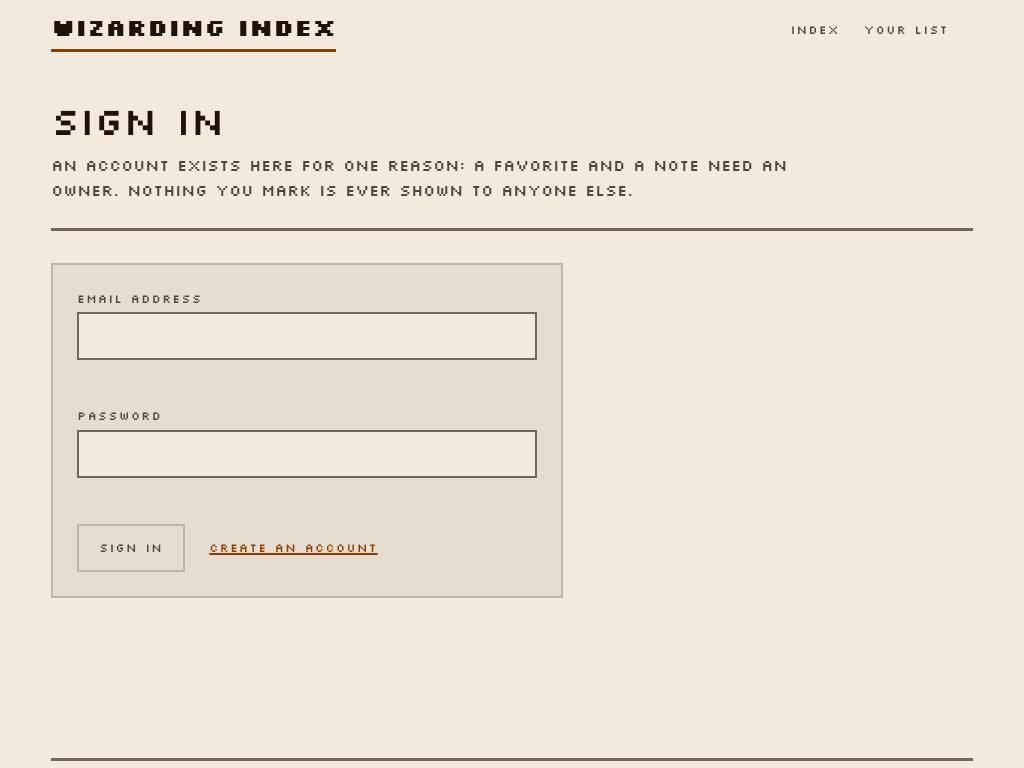
Test: signing in › shows what the server said when the password is wrong
Type "reader@example.com" into the field labelled "Email address" at coordinates (307, 336), box top-left (77, 312), bottom-right (537, 360)
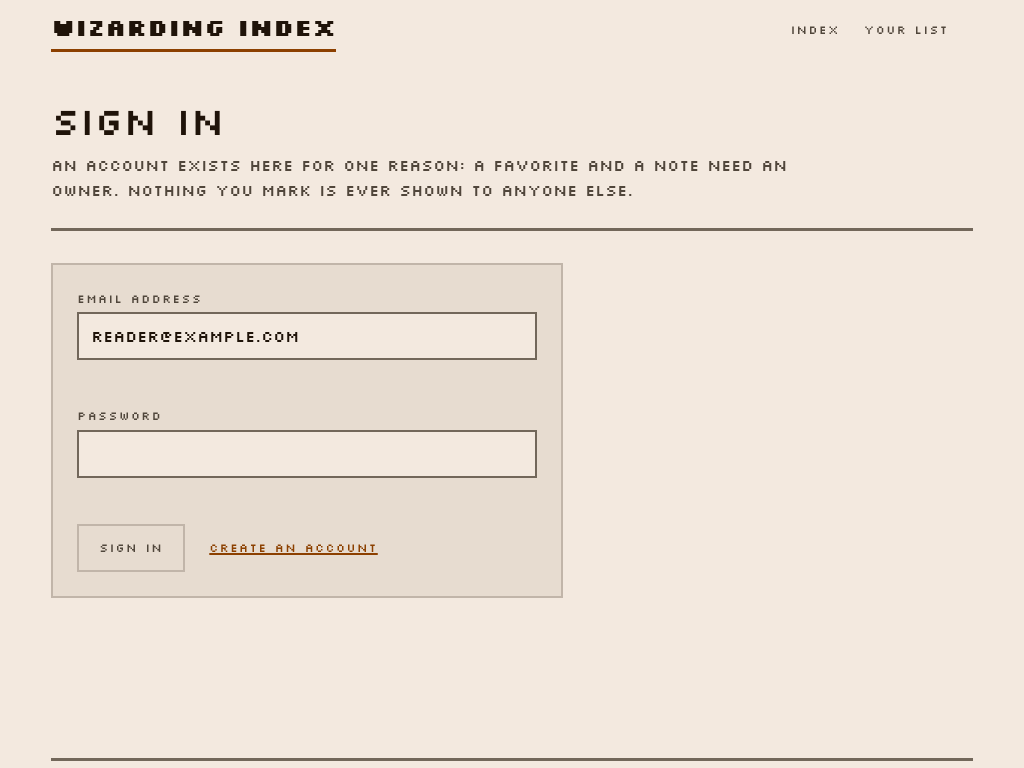
Type "password123" into the password field labelled "Password" at coordinates (307, 454), box top-left (77, 430), bottom-right (537, 478)
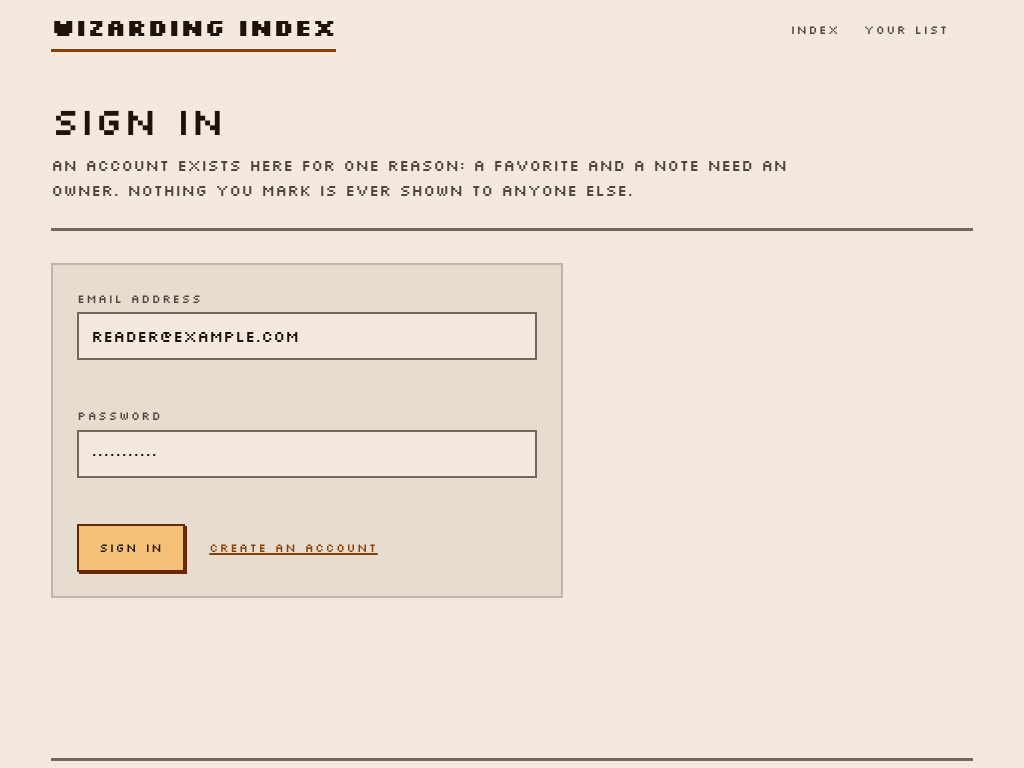
Click the button "Sign in" at coordinates (131, 548), box top-left (77, 524), bottom-right (185, 572)
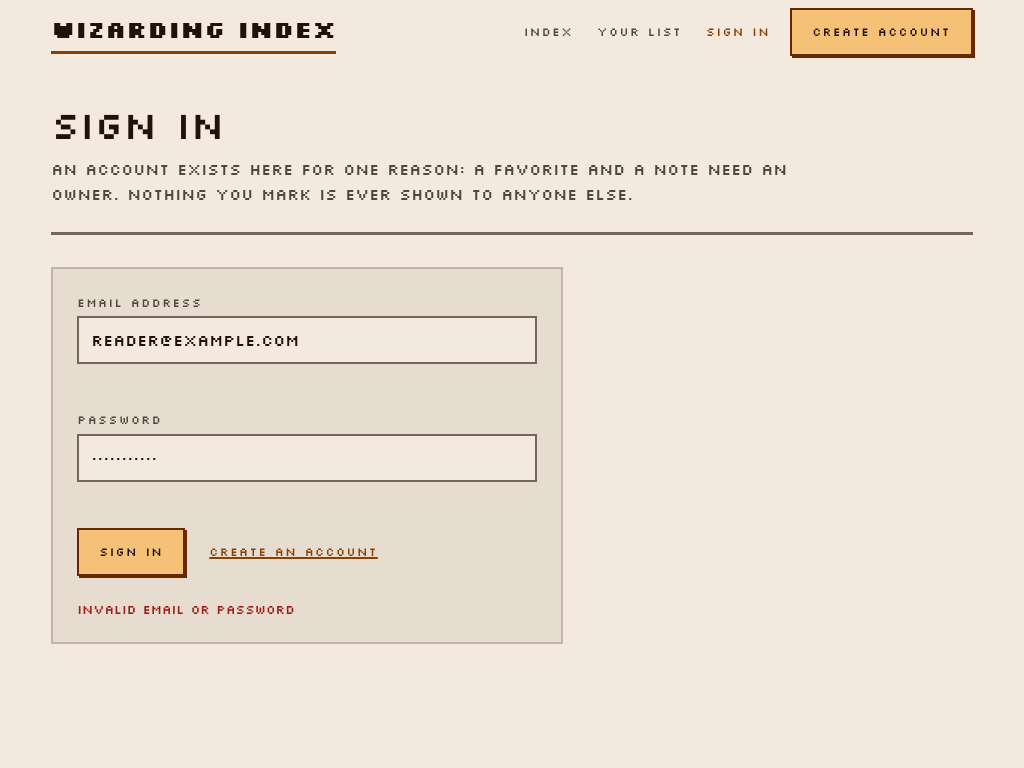
Check: the text "Invalid email or password" is shown, box top-left (77, 601), bottom-right (295, 617)
